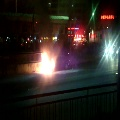fire: (35, 52, 55, 75)
